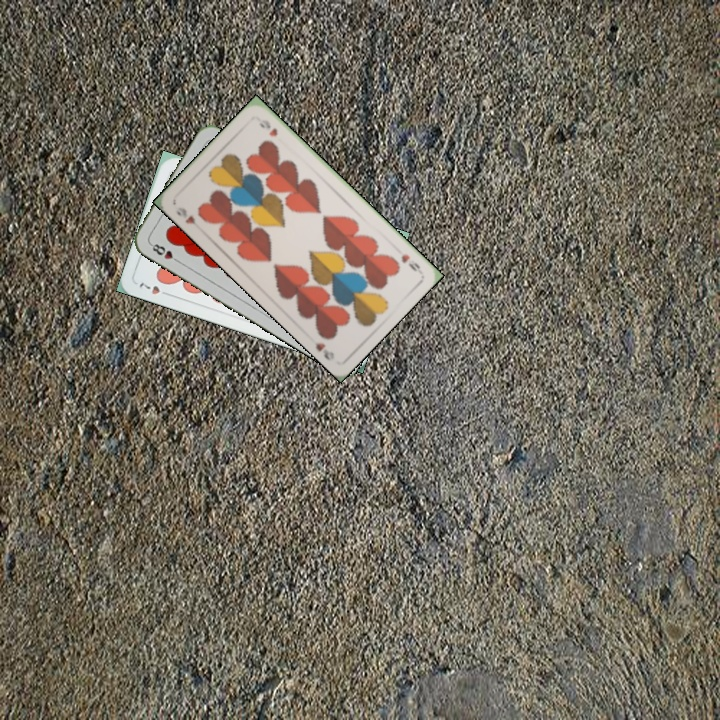H7: (135, 278, 173, 298)
H8: (146, 239, 183, 265)
H9: (173, 203, 204, 233), (397, 250, 424, 275)
